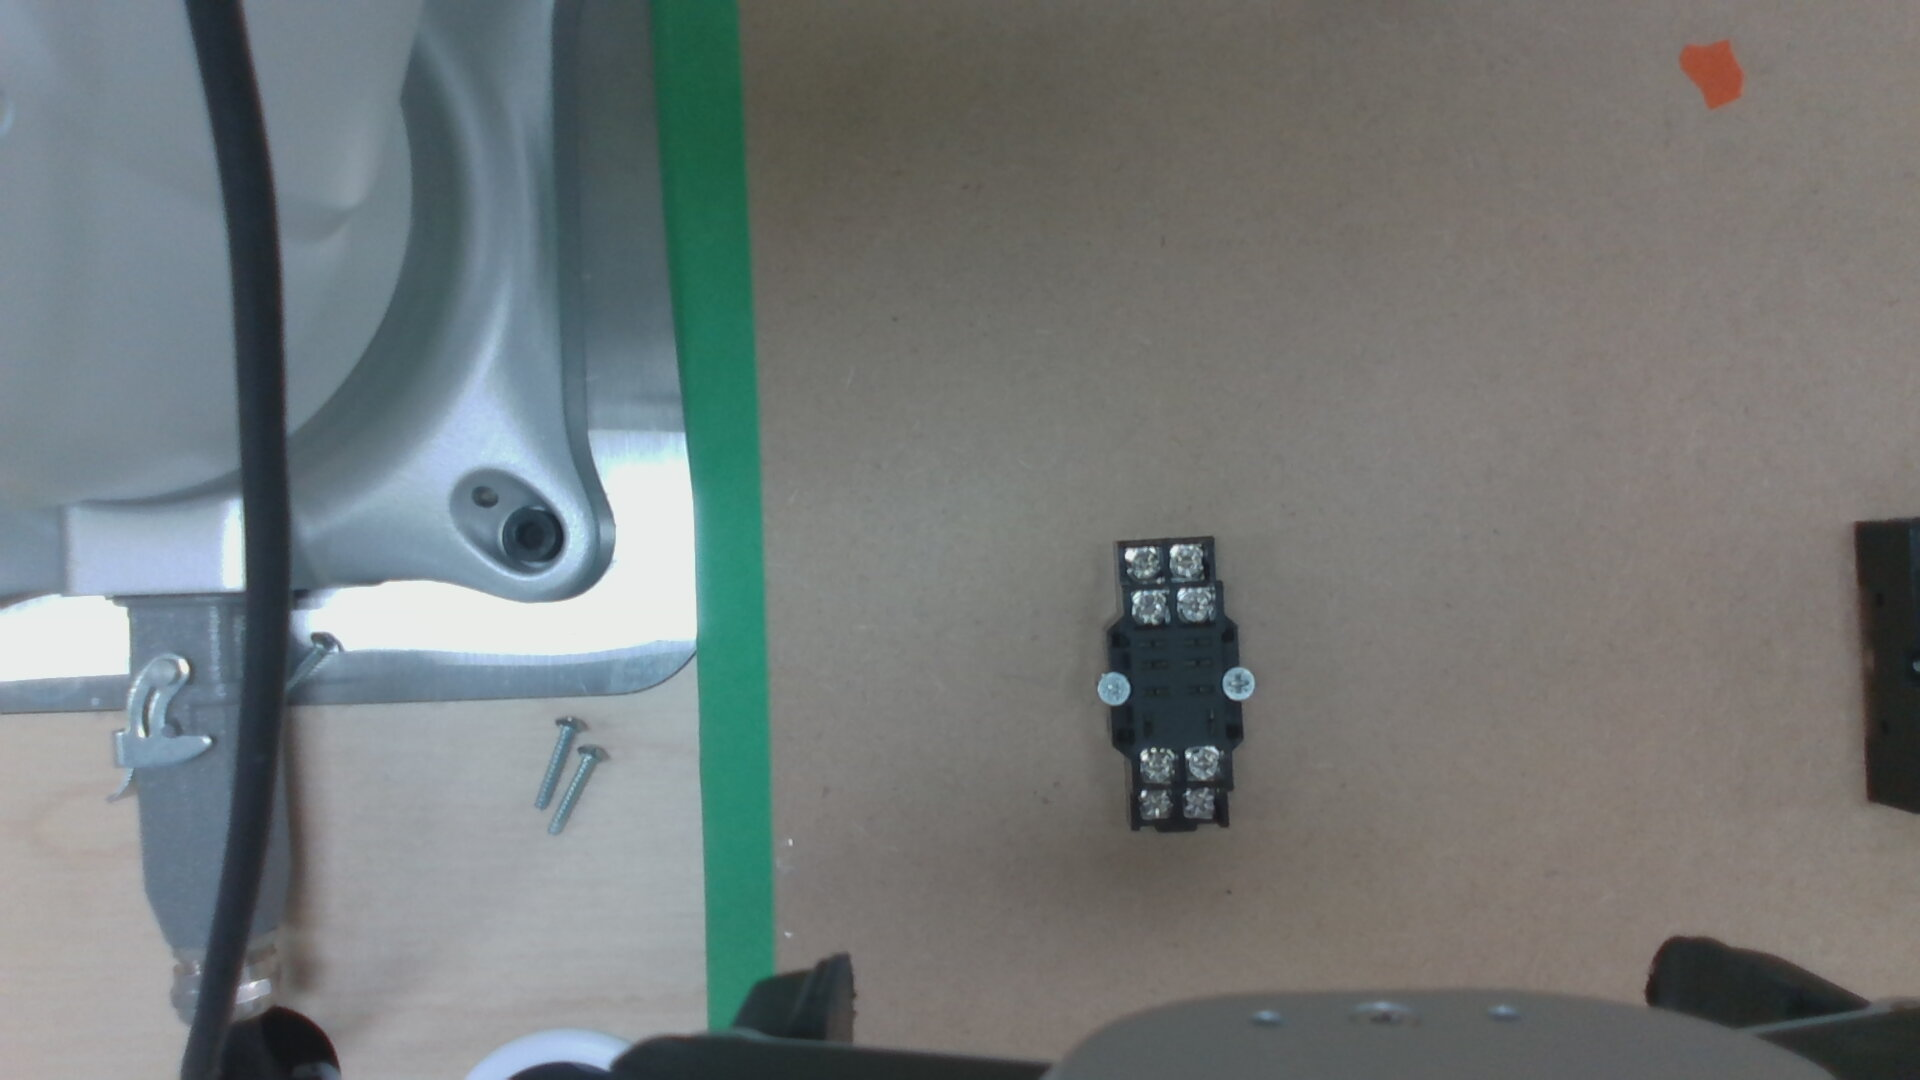relay 3: (1170, 545, 1207, 578)
relay 4: (1124, 550, 1160, 582)
relay 5: (1184, 789, 1216, 818)
relay 6: (1139, 793, 1172, 818)
relay 7: (1185, 749, 1221, 781)
relay 8: (1139, 752, 1176, 782)
